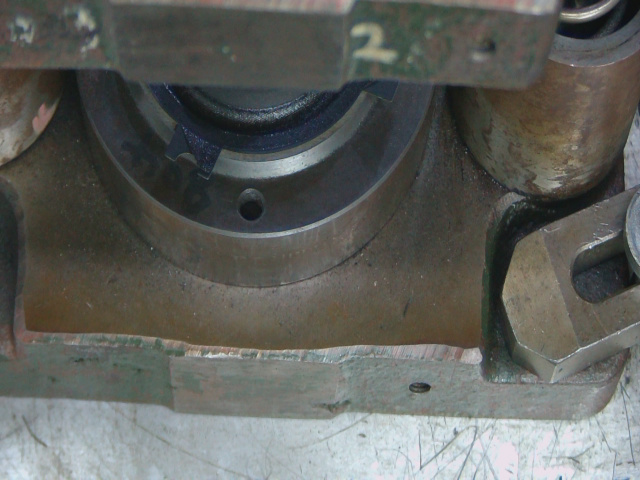OK: (165, 126, 230, 188)
